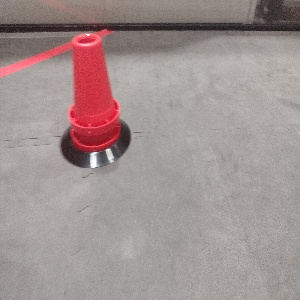Red_2: (59, 31, 123, 150)
